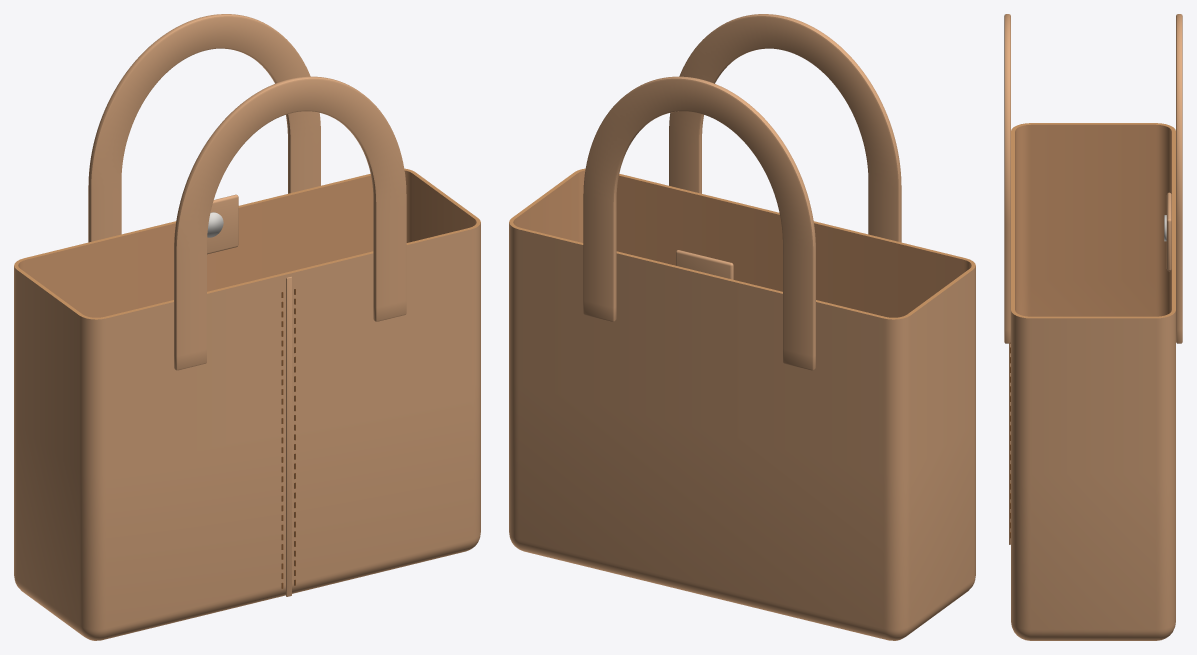
The model's file is m_mupzmziegazf.glb.
3 views of the same model, side by side, from view 1: azimuth 30°, elevation 25°; view 2: azimuth 150°, elevation 25°; view 3: azimuth 270°, elevation 25° (orthographic).
Parts seen in each view (by area): view 1: Body, HandleFront, HandleBack, Seam, ClosureTab, Stitches; view 2: Body, HandleBack, HandleFront, ClosureTab; view 3: Body, HandleBack, HandleFront, ClosureTab, Seam.
Part boxes in pixels (bbox=[...]): Body: bbox=[14, 168, 480, 640]; HandleFront: bbox=[174, 76, 406, 370]; HandleBack: bbox=[88, 14, 320, 242]; Seam: bbox=[286, 276, 291, 596]; ClosureTab: bbox=[207, 194, 238, 254]; Stitches: bbox=[281, 289, 295, 588]; Body: bbox=[509, 168, 975, 640]; HandleBack: bbox=[583, 76, 815, 370]; HandleFront: bbox=[669, 14, 901, 242]; ClosureTab: bbox=[676, 250, 733, 279]; Body: bbox=[1011, 123, 1175, 640]; HandleBack: bbox=[1176, 14, 1182, 343]; HandleFront: bbox=[1004, 14, 1010, 343]; ClosureTab: bbox=[1166, 192, 1171, 271]; Seam: bbox=[1009, 343, 1010, 544].
Bounding box in the file's own units: 0.28 × 0.351 × 0.108.
